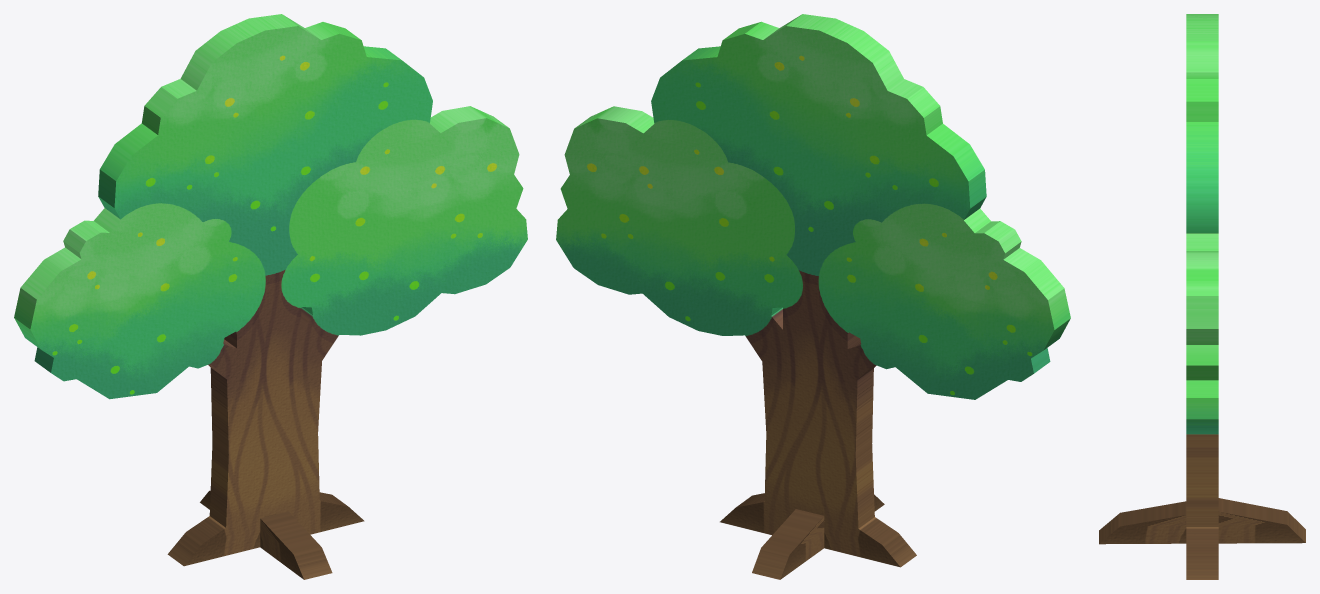
Rendered from Tree.fbx.
3 renders of one model, left to right at view 1: azimuth 30°, elevation 25°; view 2: azimuth 150°, elevation 25°; view 3: azimuth 270°, elevation 25°, orthographic.
Visible parts, largest first — view 1: Tree; view 2: Tree; view 3: Tree.
Boxes of the visible parts, x1,y1,x2,y2 form: Tree: (14,14,527,579); Tree: (556,14,1070,579); Tree: (1099,14,1305,579).
Bounding box in the file's own units: 26.1 × 25.86 × 9.49.
